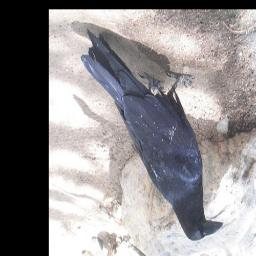Crow: (82, 26, 225, 244)
